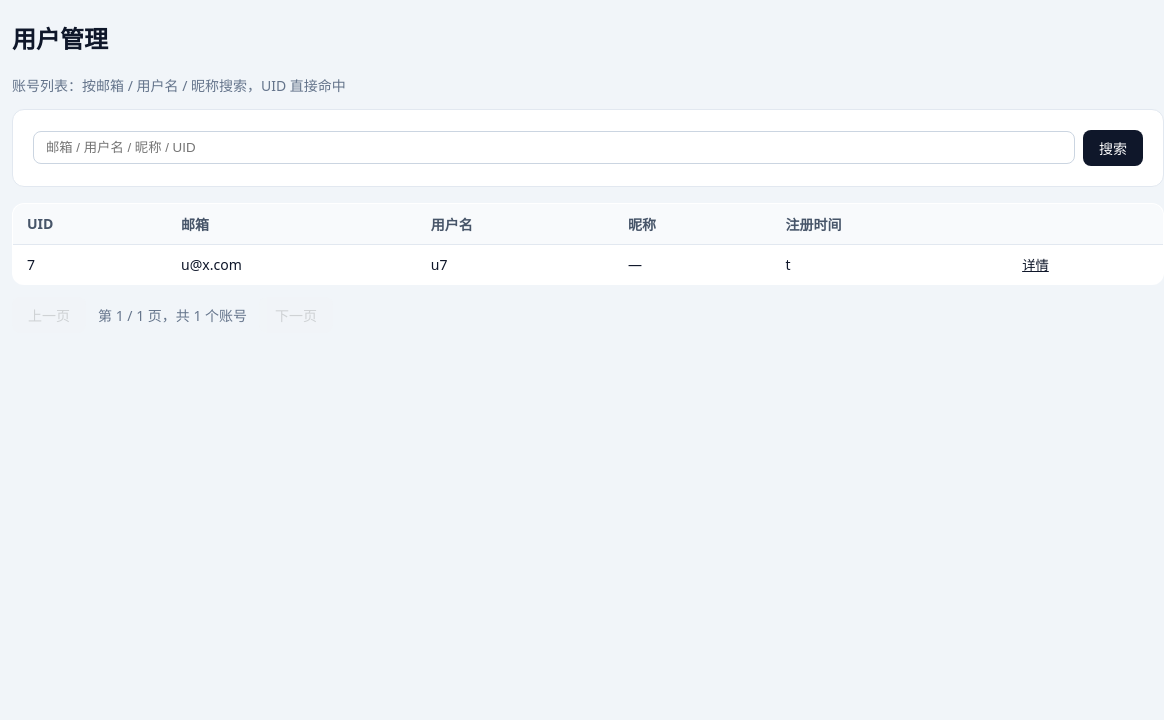
Test: Users.vue › 点详情拉取 /users/:uid 并展示邮箱与评论数
Click the button "详情". click: (1035, 264)
box: [1022,255,1049,274]
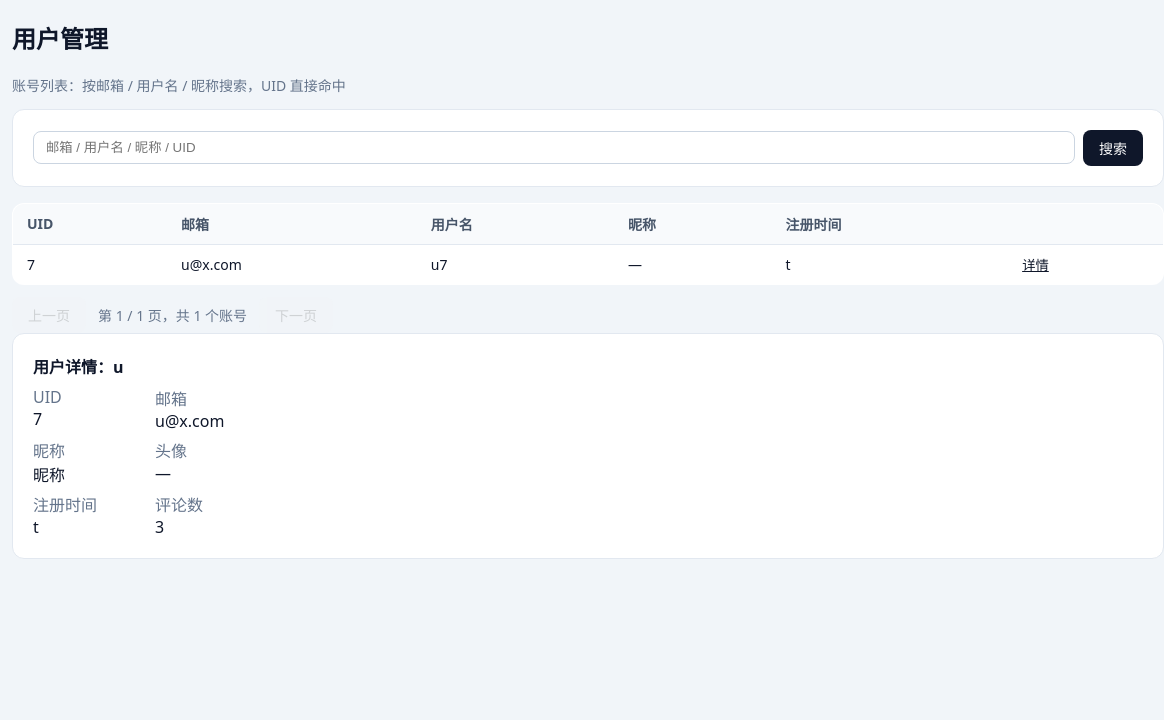
Expected: the text "昵称" is shown, [12,76,346,95]
Result: the text "评论数" is shown at [155,494,203,516]
